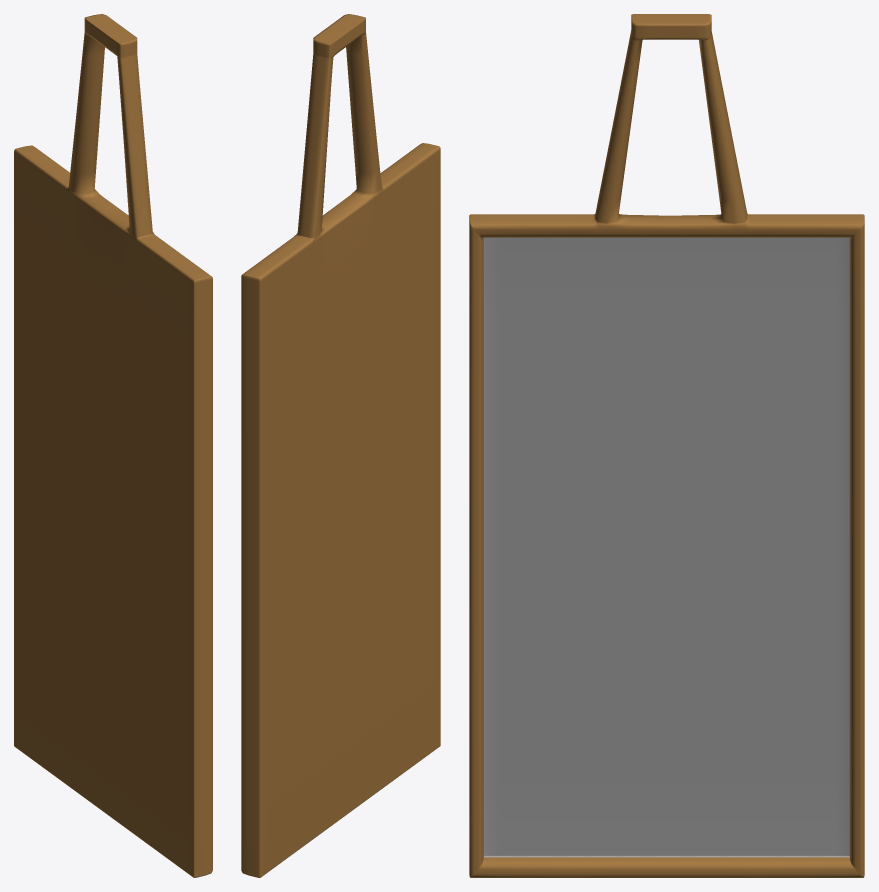
Rendered from Painting2.fbx.
The picture shows the model from 3 angles, left to right: view 1: azimuth 30°, elevation 25°; view 2: azimuth 150°, elevation 25°; view 3: azimuth 270°, elevation 25°; orthographic projection. The views are drawn at different scales.
Visible parts, largest first — view 1: pCube2; view 2: pCube2; view 3: pCube2.
Boxes of the visible parts, x1,y1,x2,y2 form: pCube2: (14,14,212,877); pCube2: (241,14,440,877); pCube2: (469,14,864,877).
Bounding box in the file's own units: 0.0636 × 2.38 × 1.
